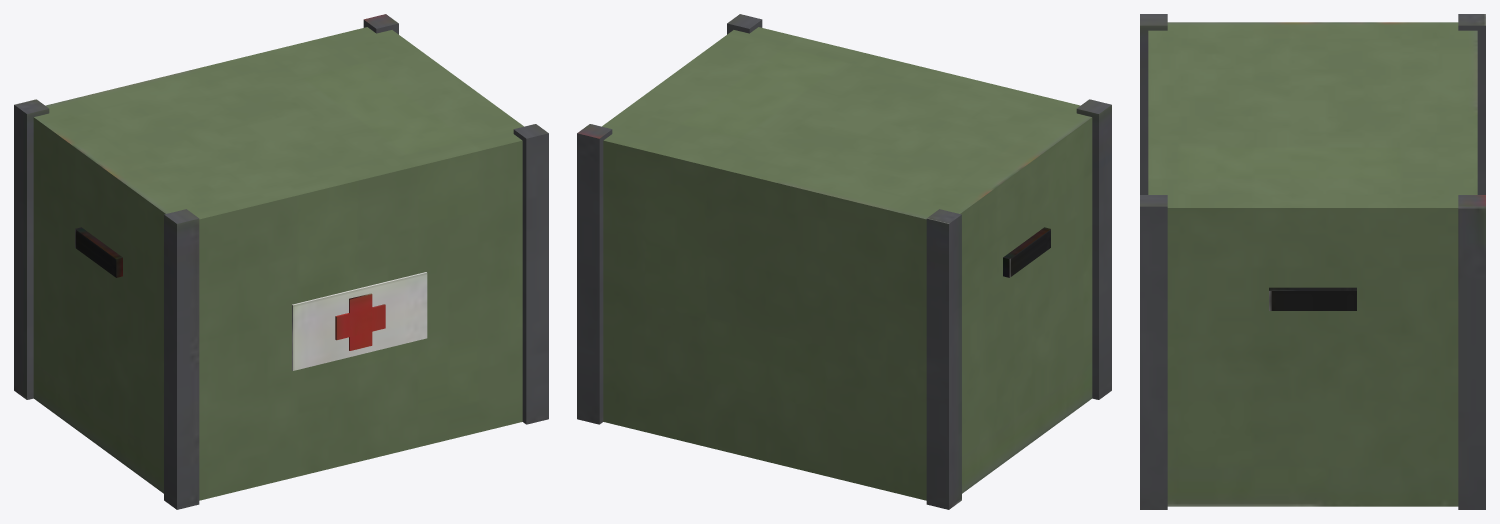
File: wood_pallet_crate.glb
3 views of the same model, side by side, from view 1: azimuth 30°, elevation 25°; view 2: azimuth 150°, elevation 25°; view 3: azimuth 270°, elevation 25° (orthographic). The views are drawn at different scales.
Parts seen in each view (by area): view 1: wood_pallet_crate; view 2: wood_pallet_crate; view 3: wood_pallet_crate.
Boxes of the visible parts, x1,y1,x2,y2 form: wood_pallet_crate: [14, 14, 548, 509]; wood_pallet_crate: [577, 14, 1111, 509]; wood_pallet_crate: [1140, 14, 1485, 509].
Bounding box in the file's own units: 0.83 × 0.61 × 0.63.
5 materials, 5 textured.
